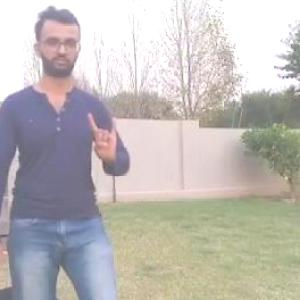takeoff-hand: (80, 107, 122, 170)
